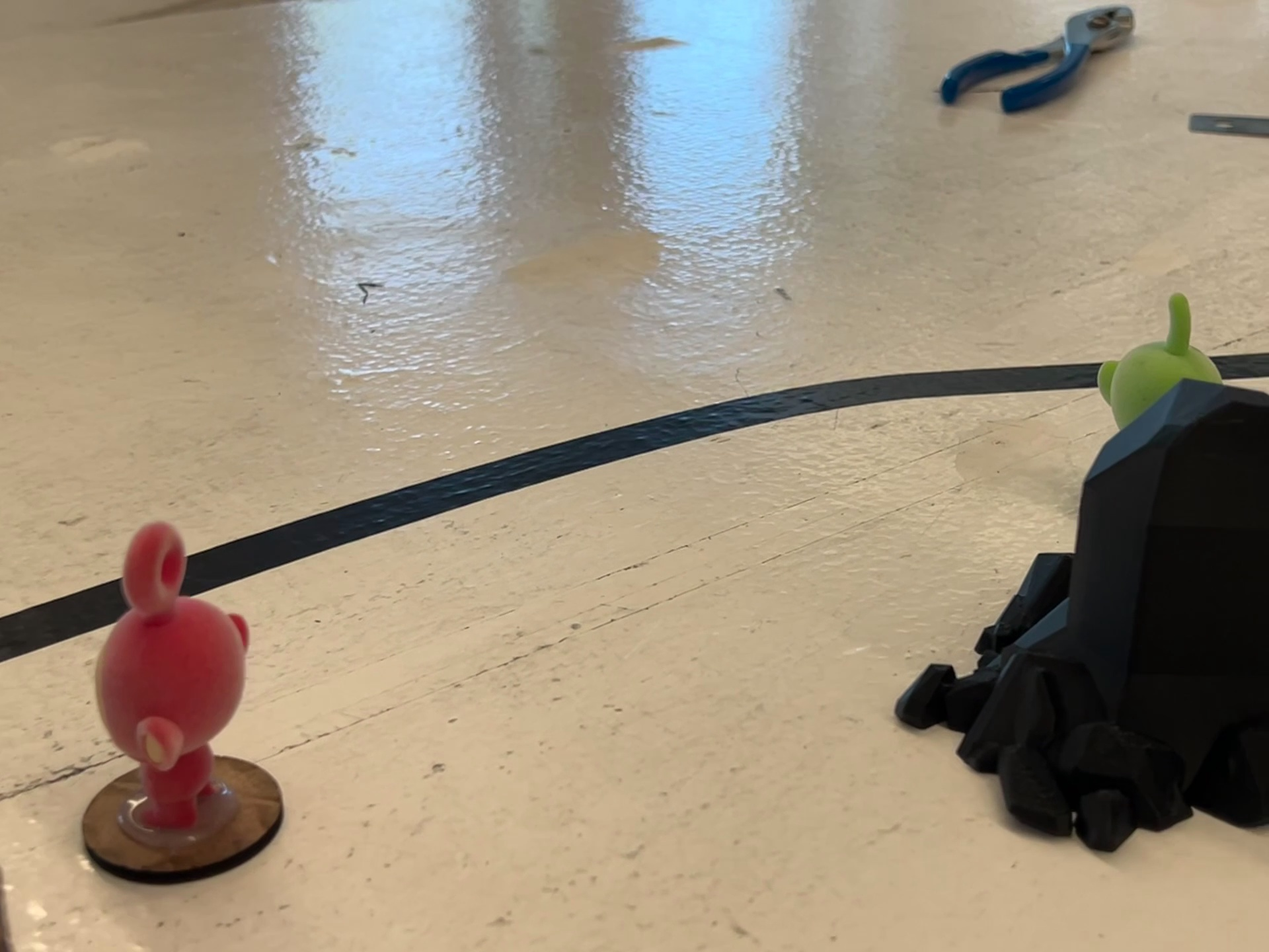teletubby: (96, 522, 249, 830), (1097, 294, 1221, 428)
